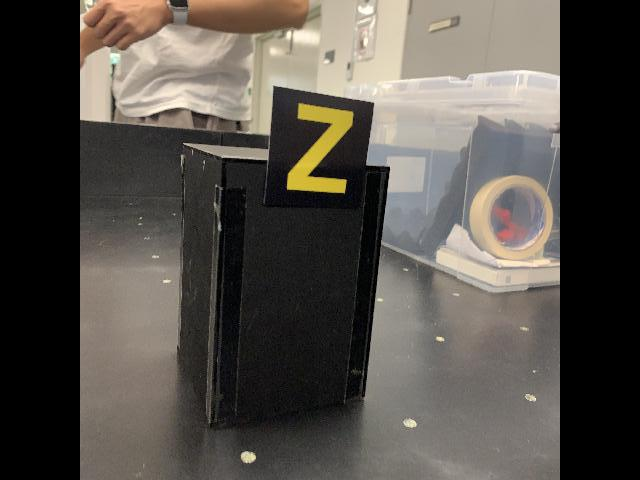z: (262, 83, 376, 213)
